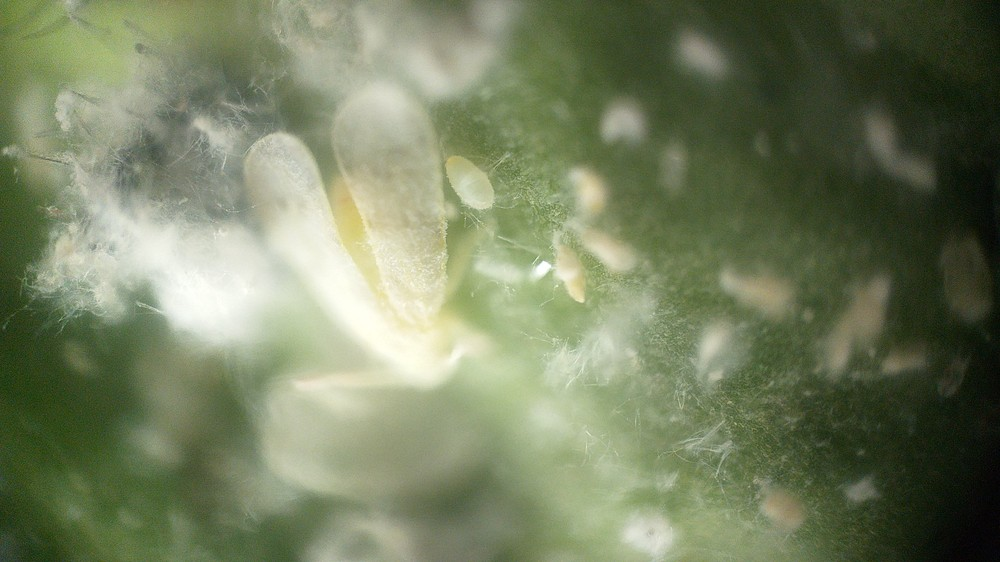Mosca Blanca: (214, 84, 542, 418)
